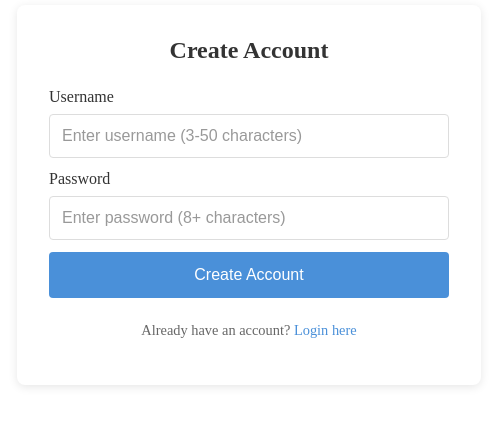
Test: RegisterForm › Accessibility › error messages have role="alert"
Type "ab" into the field labelled "Username".
click(249, 136); type("ab")  # box [49,114,449,158]
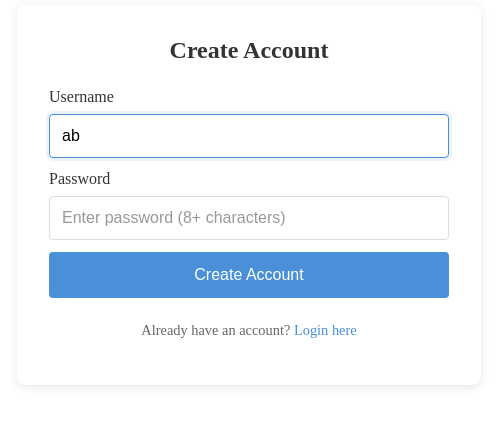
Click the button "Create Account".
click(249, 275)  # box [49,252,449,298]
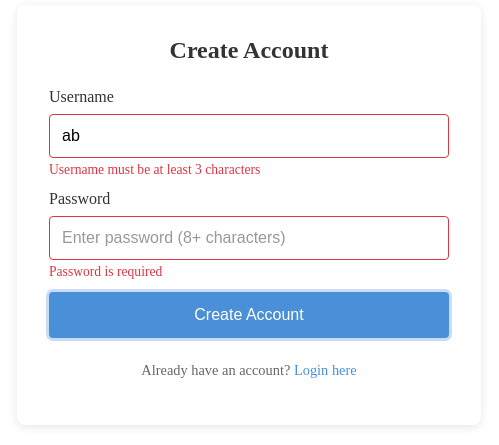
Expected: the message "Username must be at least 3 characters" is shown, [49,162,260,177]
